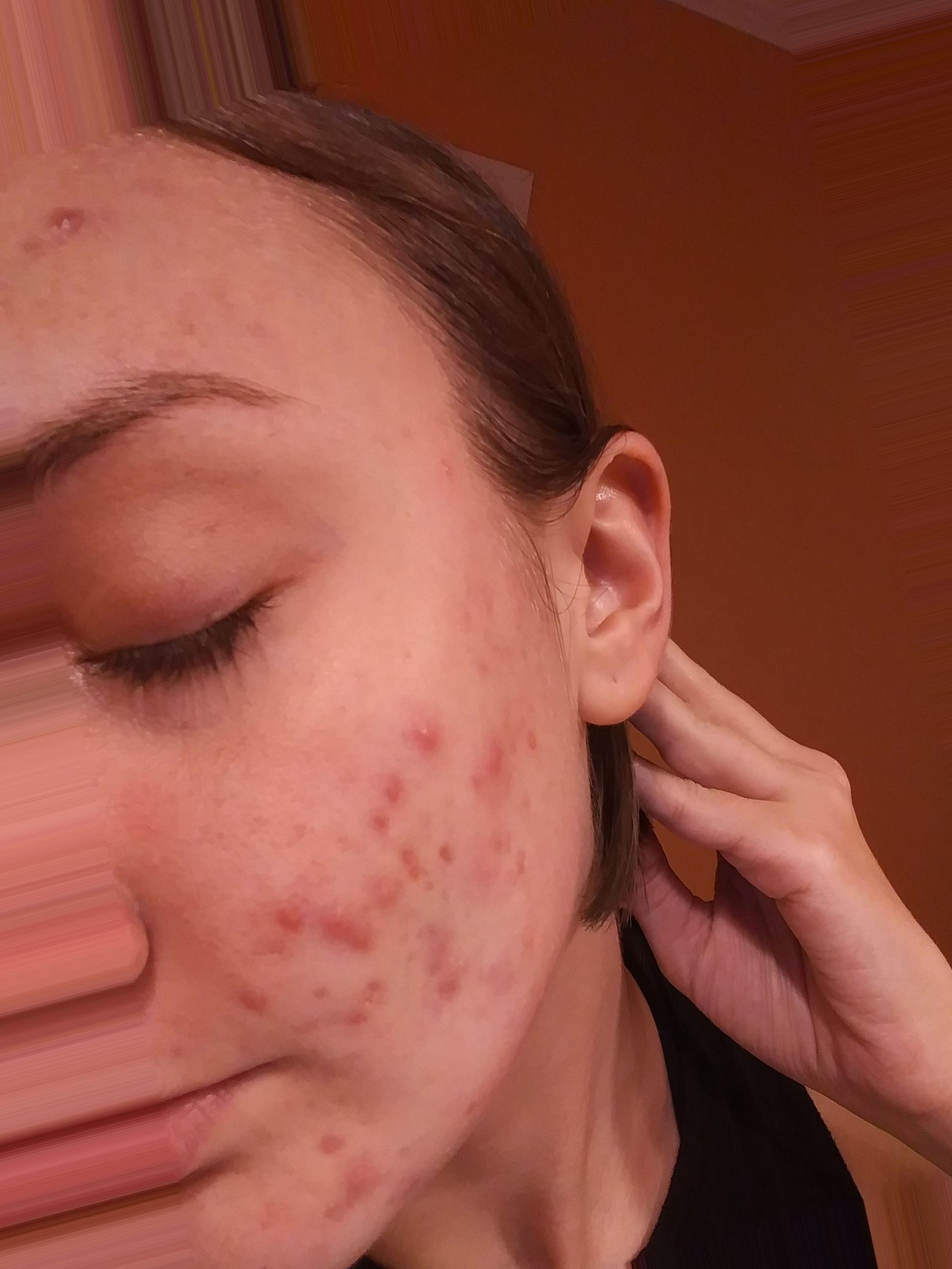Acne: (239, 727, 592, 1238)
